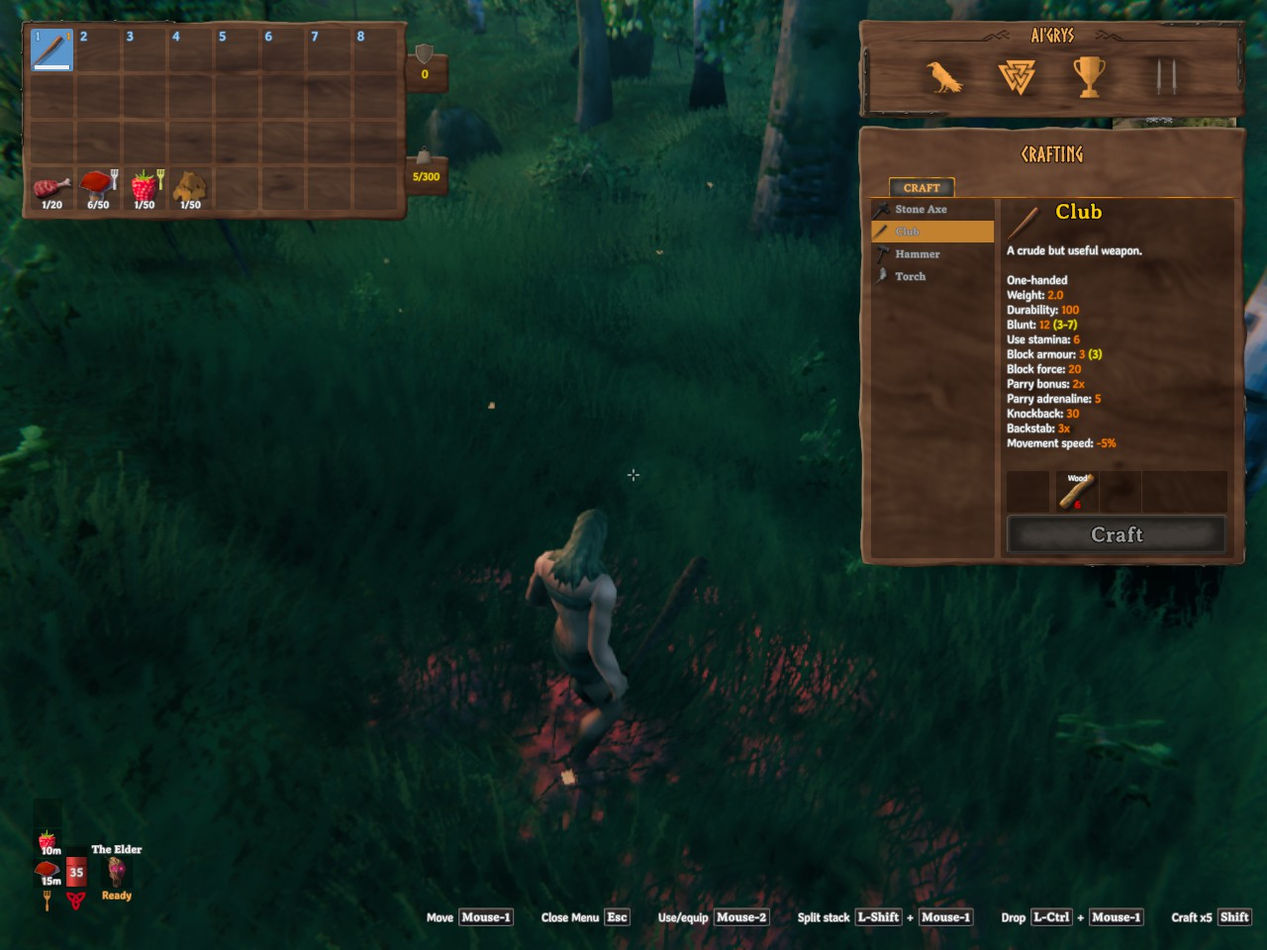Club: (627, 556, 707, 676)
Food Indicator: (35, 861, 61, 885), (39, 831, 60, 854)
Health Bar: (63, 847, 88, 909)
Hotbar: (30, 27, 75, 70)
Inventory: (18, 17, 446, 221)
